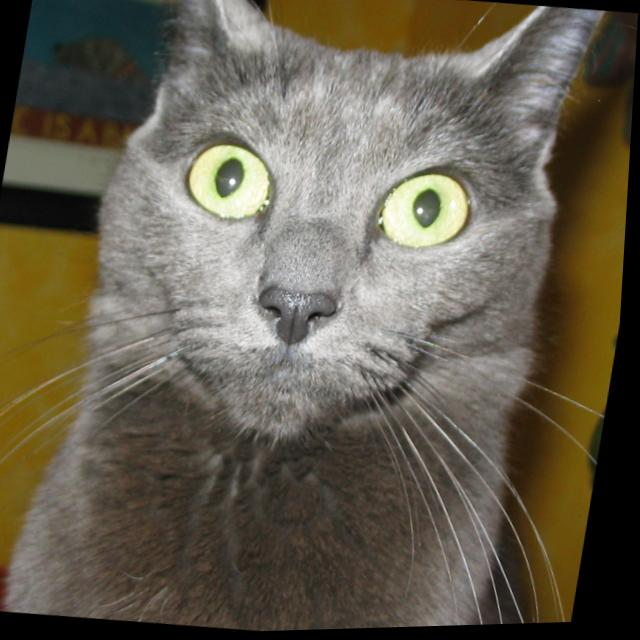animals: (98, 0, 611, 375)
